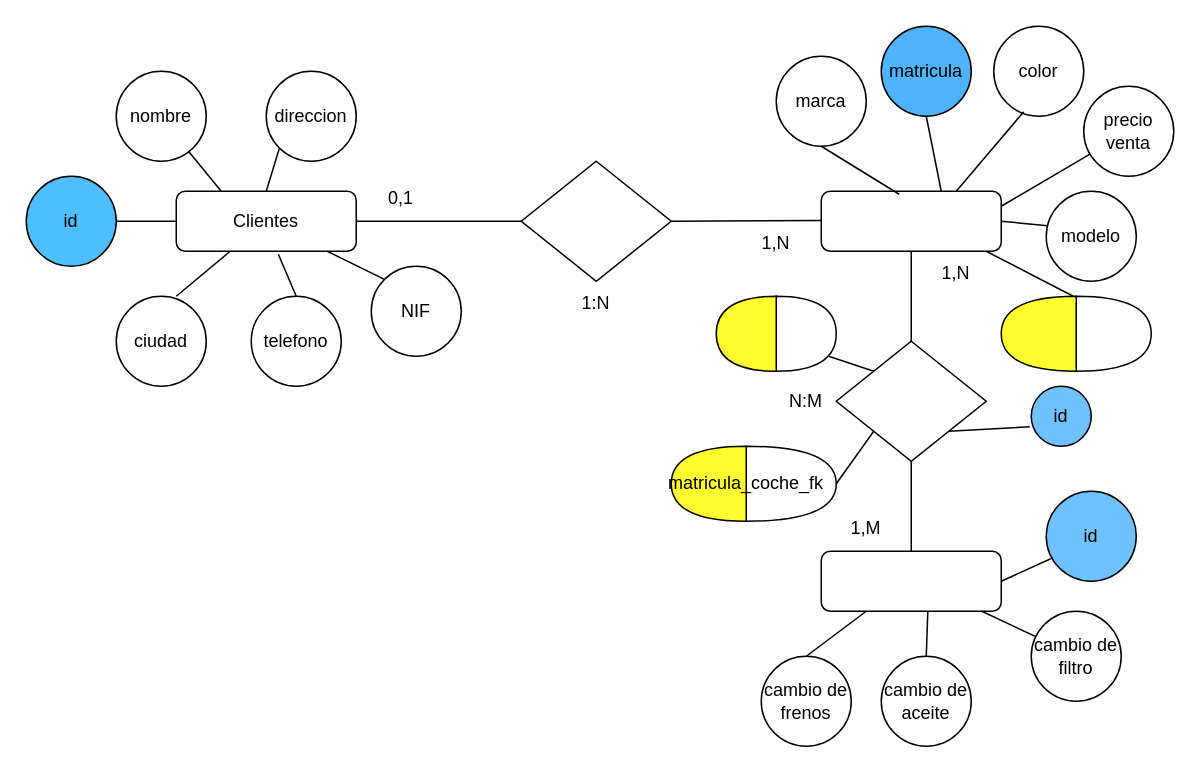
The diagram is 1200 pixels wide and 773 high, and some of its shapes have lost their labels. The box of each missing label's shape, as (x1, y1, x2, y2) in pixels:
Coche: (820, 190, 1001, 251)
Comprar: (520, 160, 671, 281)
id_clientes_fk: (1000, 295, 1076, 371)
id_revision_fk: (715, 295, 776, 371)
Realizar: (835, 340, 986, 461)
Revision: (820, 550, 1001, 611)
